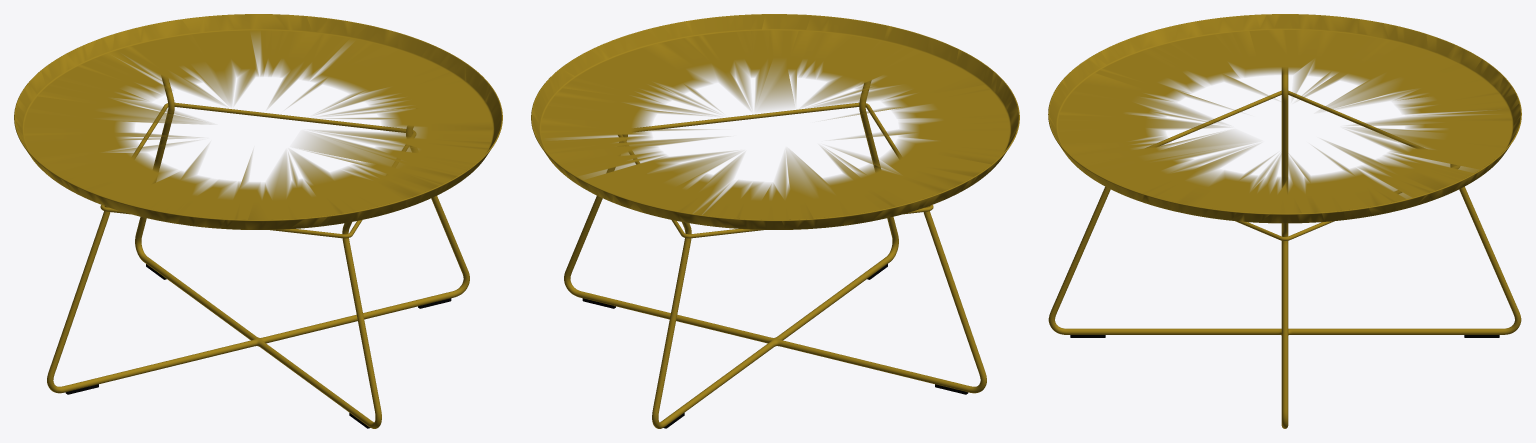
File: dimensiva-coffee-table-in-and-outdoor-xl-by-freifrau.optimized.glb
3 views of the same model, side by side, from view 1: azimuth 30°, elevation 25°; view 2: azimuth 150°, elevation 25°; view 3: azimuth 270°, elevation 25° (orthographic). The views are drawn at different scales.
Parts seen in each view (by area): view 1: Coffee Table In and Outdoor XL; view 2: Coffee Table In and Outdoor XL; view 3: Coffee Table In and Outdoor XL.
Boxes of the visible parts, <box> form: Coffee Table In and Outdoor XL: <box>14,14,502,428</box>; Coffee Table In and Outdoor XL: <box>531,14,1019,428</box>; Coffee Table In and Outdoor XL: <box>1048,14,1521,428</box>.
Size of the model in its own units: 0.7588 by 0.3947 by 0.7588.
